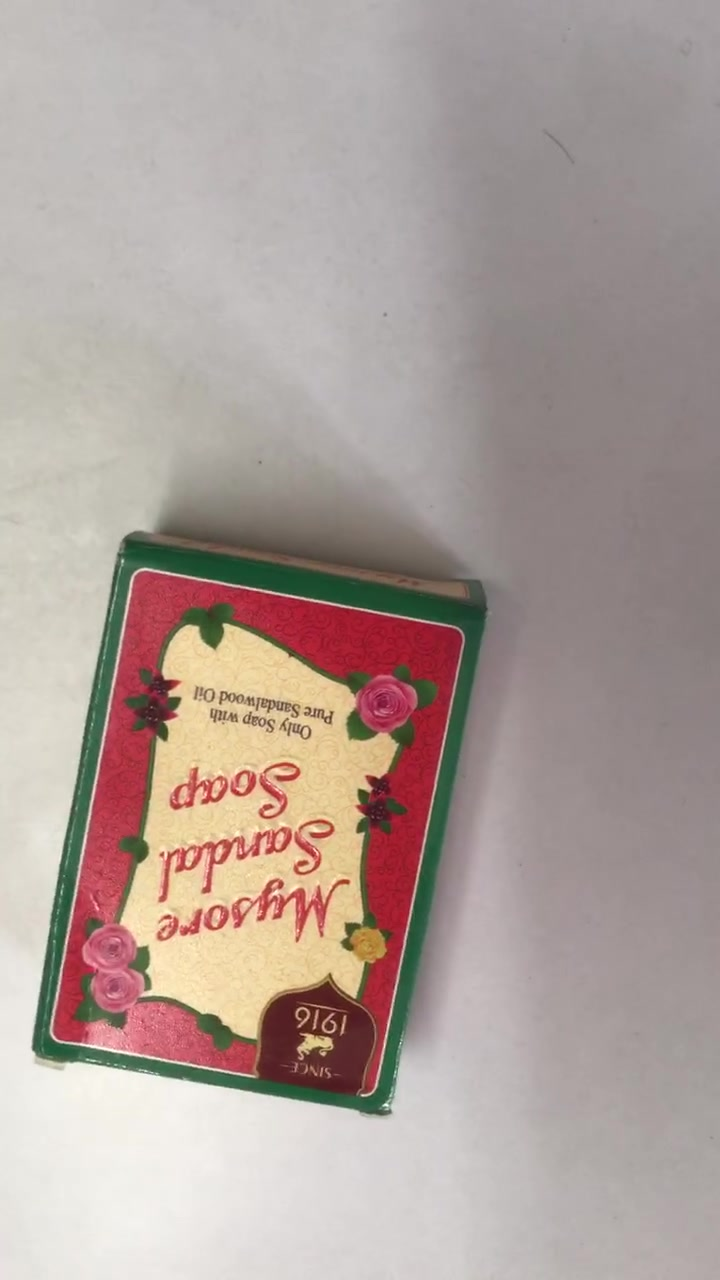mysore sandal soap: (30, 531, 489, 1121)
